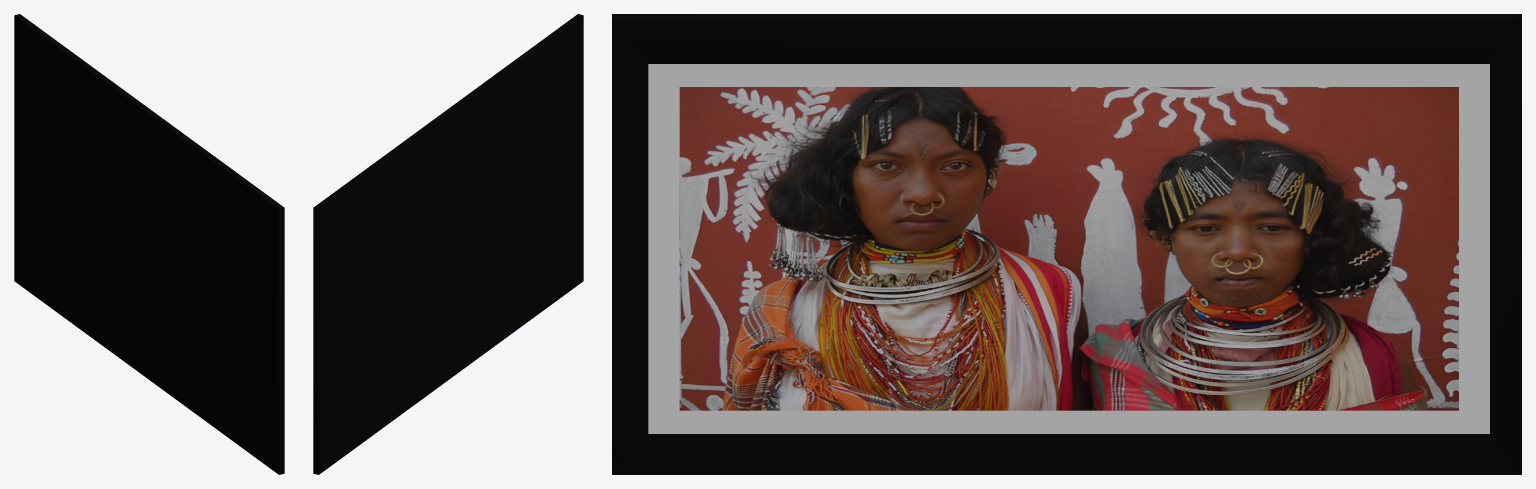
File: Frame6.fbx
3 renders of one model, left to right at view 1: azimuth 30°, elevation 25°; view 2: azimuth 150°, elevation 25°; view 3: azimuth 270°, elevation 25°, orthographic. The views are drawn at different scales.
Parts seen in each view (by area): view 1: Box046.001; view 2: Box046.001; view 3: Box046.001.
Boxes of the visible parts, <box> form: Box046.001: <box>14,14,284,474</box>; Box046.001: <box>313,14,583,474</box>; Box046.001: <box>612,14,1521,474</box>.
Size of the model in its own units: 6.3 by 269 by 486.
3 materials, 1 textured.
